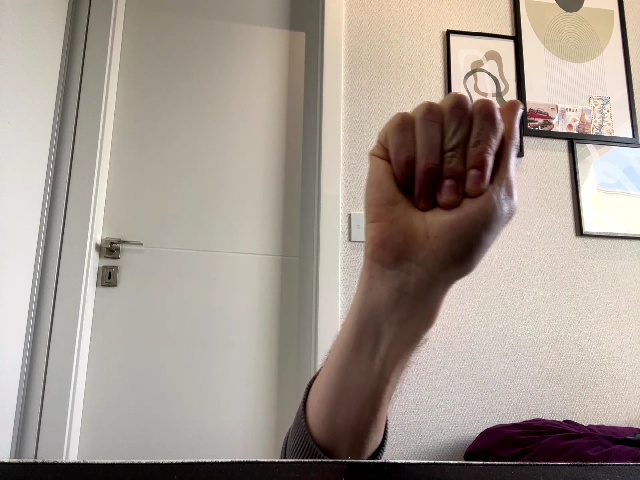A: (365, 93, 525, 296)
